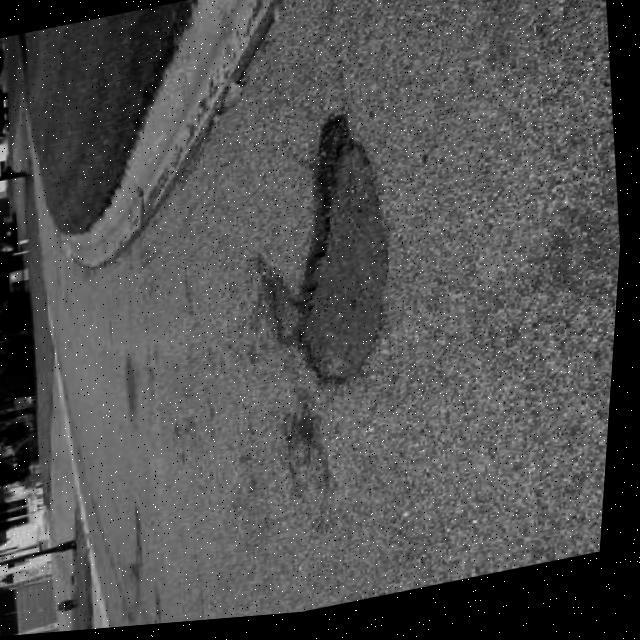pothole: (245, 105, 418, 402)
